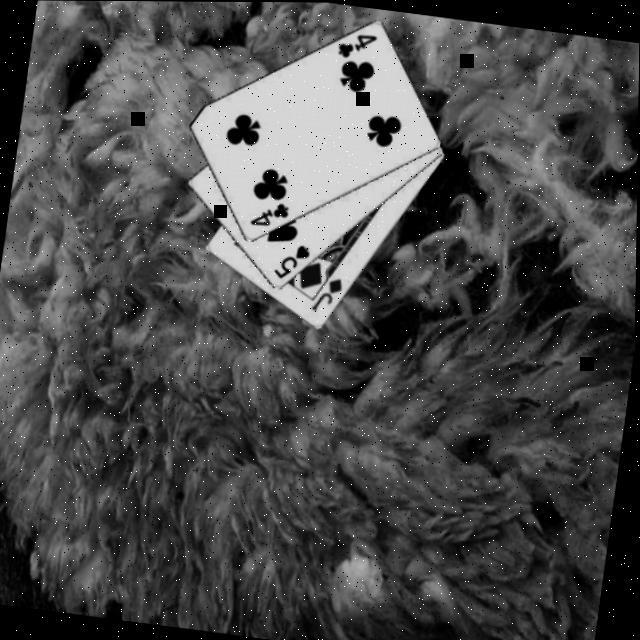4C: (332, 28, 380, 65), (246, 196, 292, 233)
5S: (268, 238, 314, 286)
JD: (306, 272, 346, 318)
